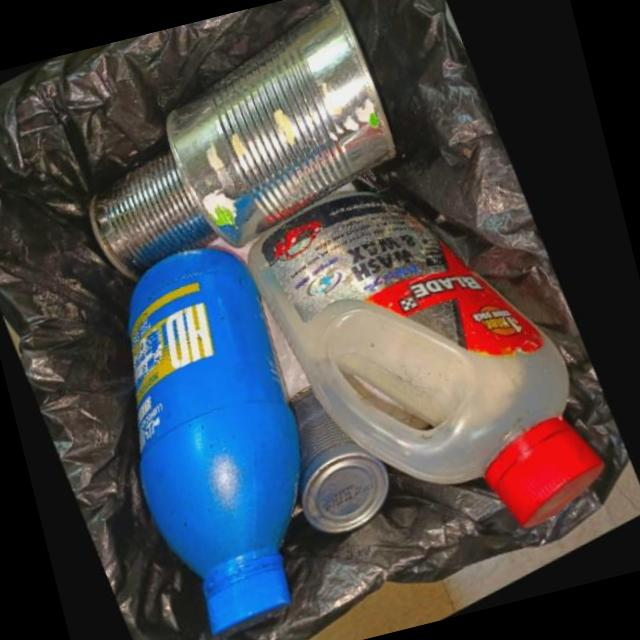chai_nhua: (250, 198, 612, 539), (129, 253, 305, 640)
nhom: (168, 4, 400, 254), (91, 150, 221, 286), (293, 390, 396, 541)
